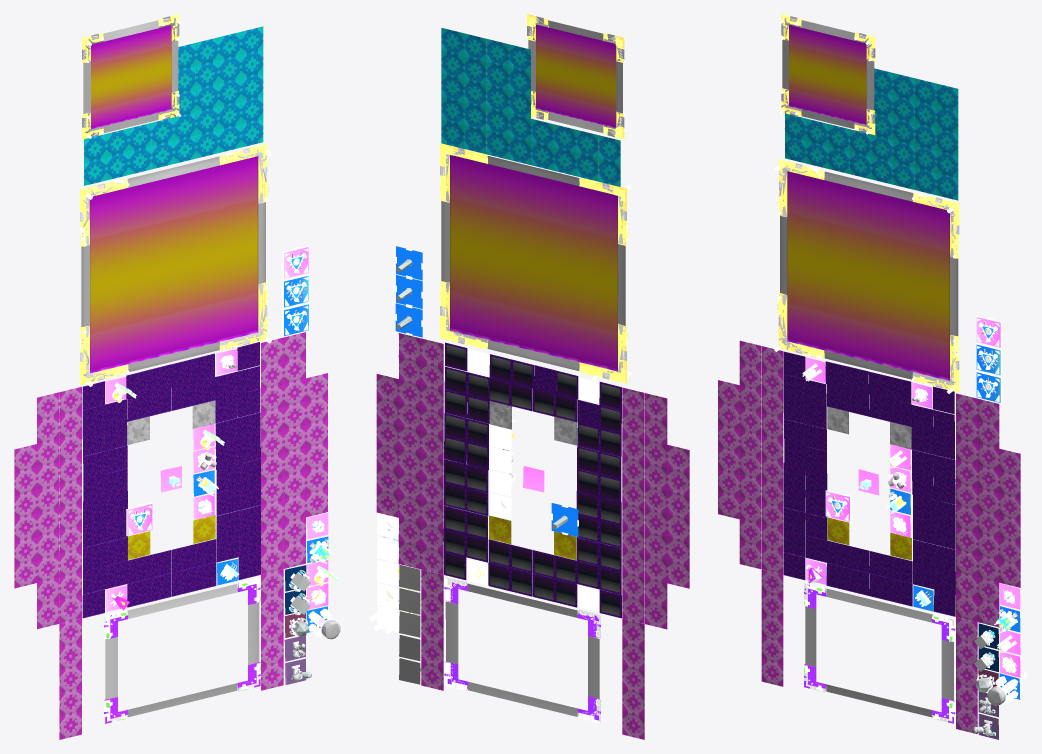
Rendered from Parcel6_Baked.fbx.
3 renders of one model, left to right at view 1: azimuth 30°, elevation 25°; view 2: azimuth 150°, elevation 25°; view 3: azimuth 330°, elevation 25°, orthographic. The views are drawn at different scales.
Visible parts, largest first — view 1: Parcel6_Baked; view 2: Parcel6_Baked; view 3: Parcel6_Baked.
Part boxes in pixels (<box>): Parcel6_Baked: <box>14,14,340,739</box>; Parcel6_Baked: <box>369,14,689,739</box>; Parcel6_Baked: <box>718,14,1027,739</box>.
Size of the model in its own units: 286 by 609 by 42.48.
Materials: 1 (1 with a texture image).
